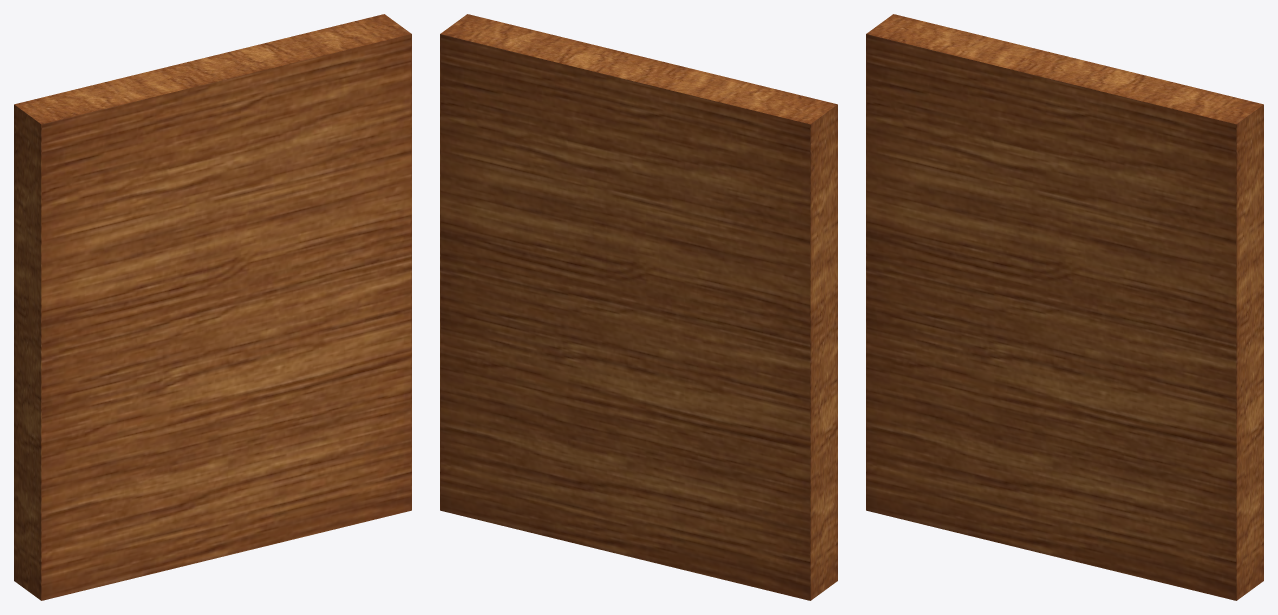
File: inner_wall.fbx
3 renders of one model, left to right at view 1: azimuth 30°, elevation 25°; view 2: azimuth 150°, elevation 25°; view 3: azimuth 330°, elevation 25°, orthographic.
Visible parts, largest first — view 1: wood_wall.007; view 2: wood_wall.007; view 3: wood_wall.007.
Part boxes in pixels (<box>): wood_wall.007: <box>14,14,411,600</box>; wood_wall.007: <box>440,14,837,600</box>; wood_wall.007: <box>866,14,1263,600</box>.
Bounding box in the file's own units: 255 × 313 × 32.66.
Materials: 1 (1 with a texture image).
